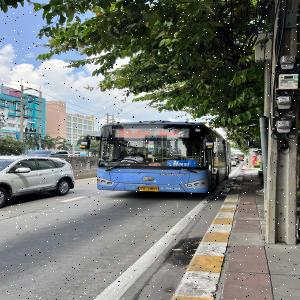BMTA-bus: (96, 121, 232, 196)
Bus Line Number: (116, 128, 144, 138)
Bus Side Number: (158, 186, 182, 191)
Destination Sign: (169, 160, 196, 167)
